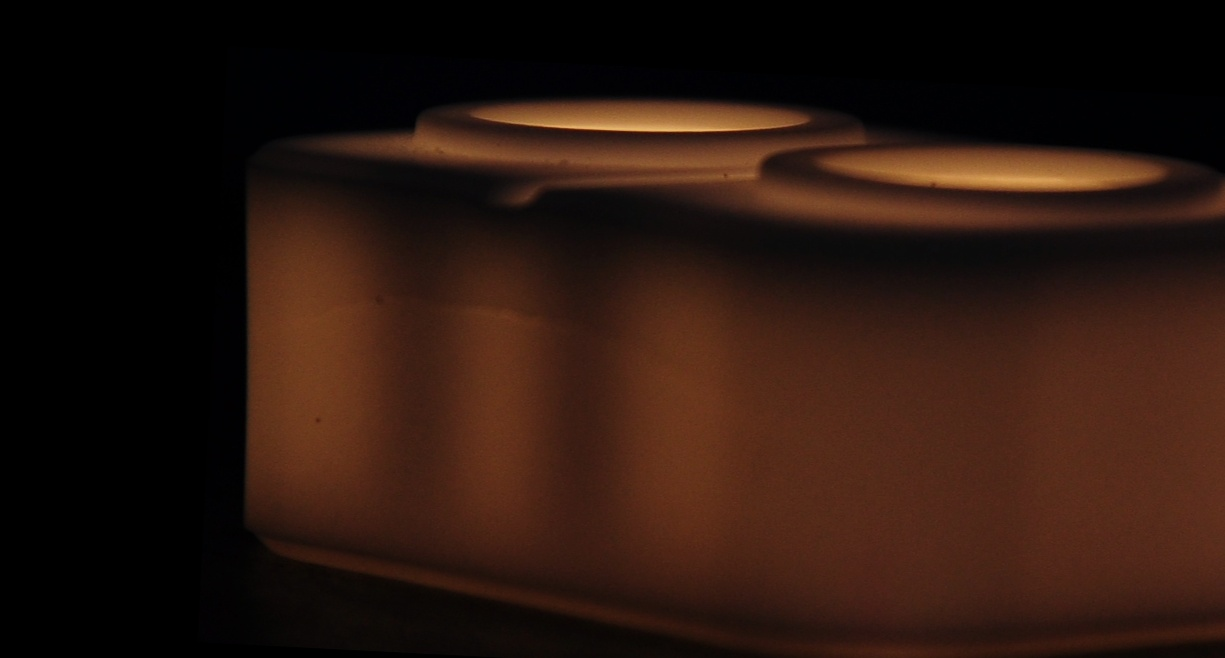flaw: (296, 271, 717, 383)
